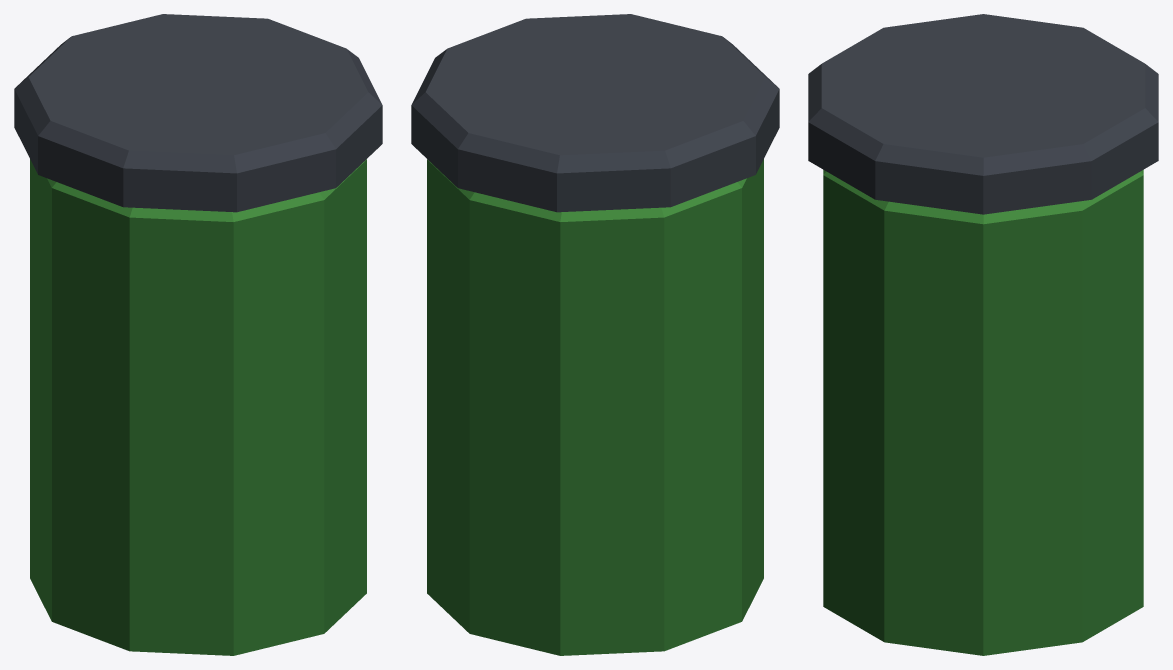
The model's file is Bin.glb.
The picture shows the model from 3 angles, left to right: view 1: azimuth 30°, elevation 25°; view 2: azimuth 150°, elevation 25°; view 3: azimuth 270°, elevation 25°; orthographic projection.
Visible parts, largest first — view 1: Bin; view 2: Bin; view 3: Bin.
Boxes of the visible parts, box(x1,y1,x2,y2) form: Bin: box(14, 14, 382, 655); Bin: box(411, 14, 779, 655); Bin: box(808, 14, 1158, 655).
Size of the model in its own units: 1.64 by 2.45 by 1.56.
1 material, 1 textured.
